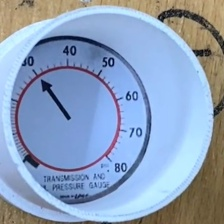gauge: (11, 38, 151, 201)
